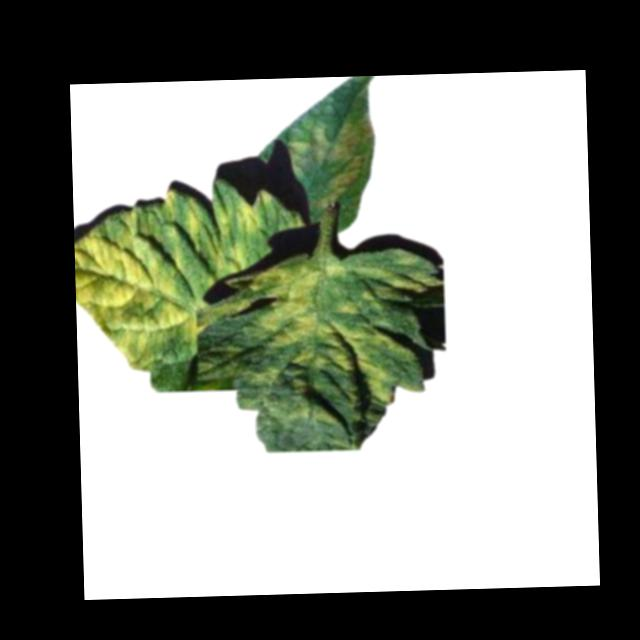Leaf_Mold: (73, 188, 266, 373), (251, 254, 444, 427), (288, 114, 376, 208)
